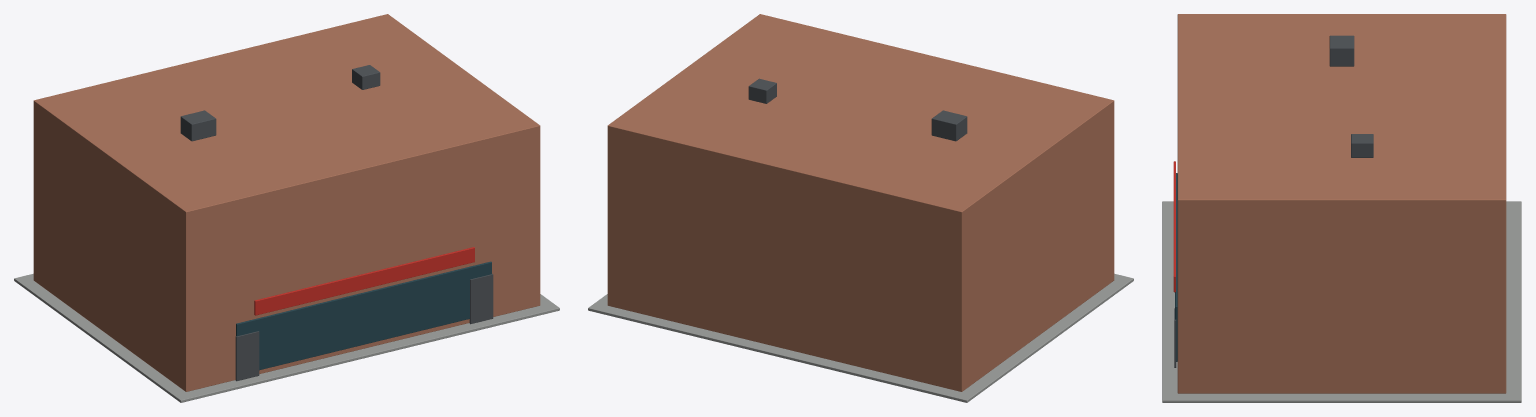
The model's file is Building_Commercial_018.glb.
3 renders of one model, left to right at view 1: azimuth 30°, elevation 25°; view 2: azimuth 150°, elevation 25°; view 3: azimuth 270°, elevation 25°, orthographic. The views are drawn at different scales.
Parts seen in each view (by area): view 1: Building_Commercial_018; view 2: Building_Commercial_018; view 3: Building_Commercial_018.
Part boxes in pixels (x1=…): Building_Commercial_018: x1=14, y1=14, x2=559, y2=402; Building_Commercial_018: x1=588, y1=14, x2=1133, y2=402; Building_Commercial_018: x1=1162, y1=14, x2=1521, y2=402.
Bounding box in the file's own units: 23.12 × 11.66 × 17.63.
